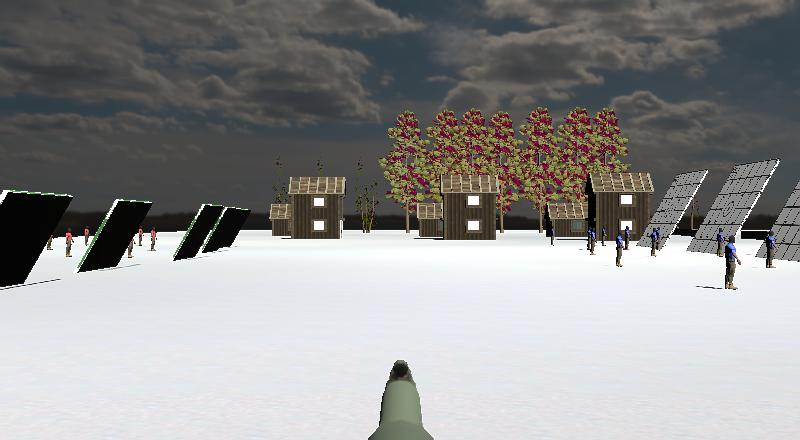House: (429, 160, 510, 256), (576, 159, 661, 248), (280, 162, 356, 257), (537, 192, 593, 246), (407, 187, 451, 246), (263, 194, 297, 244)
Human: (714, 229, 749, 297), (756, 225, 780, 275), (609, 222, 633, 272), (581, 222, 600, 259), (60, 224, 78, 263), (645, 223, 663, 262), (713, 223, 728, 259), (148, 224, 163, 255), (714, 225, 728, 256), (134, 221, 147, 251)
